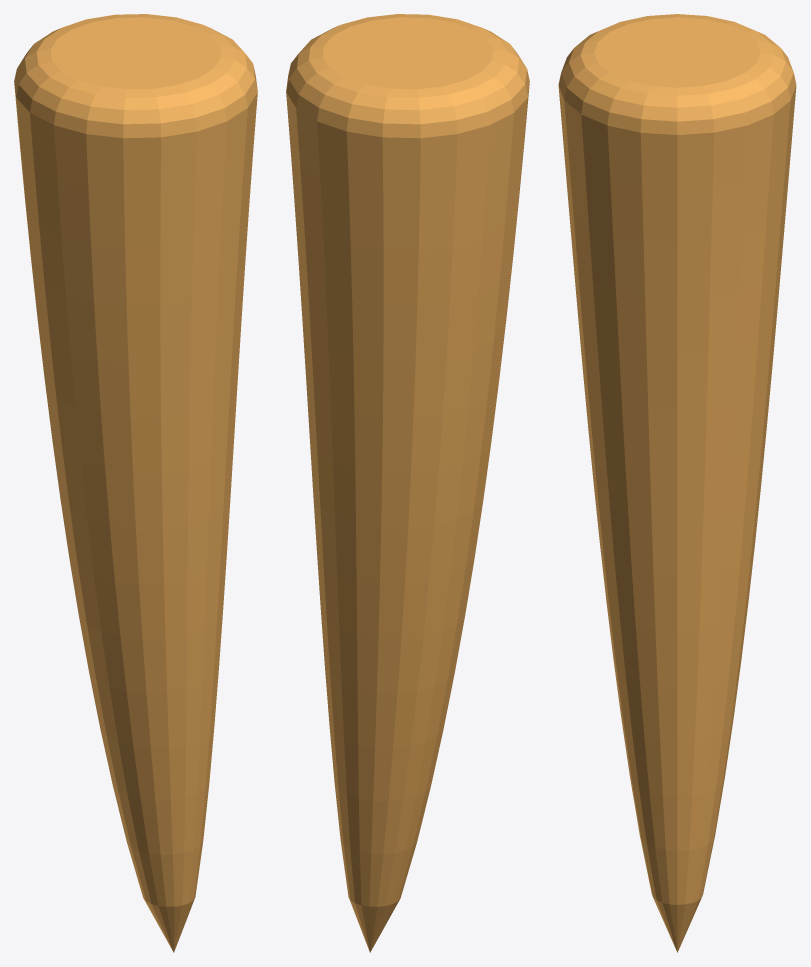
File: carrot_v08.glb
3 views of the same model, side by side, from view 1: azimuth 30°, elevation 25°; view 2: azimuth 150°, elevation 25°; view 3: azimuth 270°, elevation 25° (orthographic). The views are drawn at different scales.
Parts seen in each view (by area): view 1: root; view 2: root; view 3: root.
Boxes of the visible parts, bbox=[...] form: root: bbox=[14, 14, 257, 952]; root: bbox=[286, 14, 529, 952]; root: bbox=[558, 14, 796, 952].
Bounding box in the file's own units: 0.0394 × 0.1613 × 0.0394.
